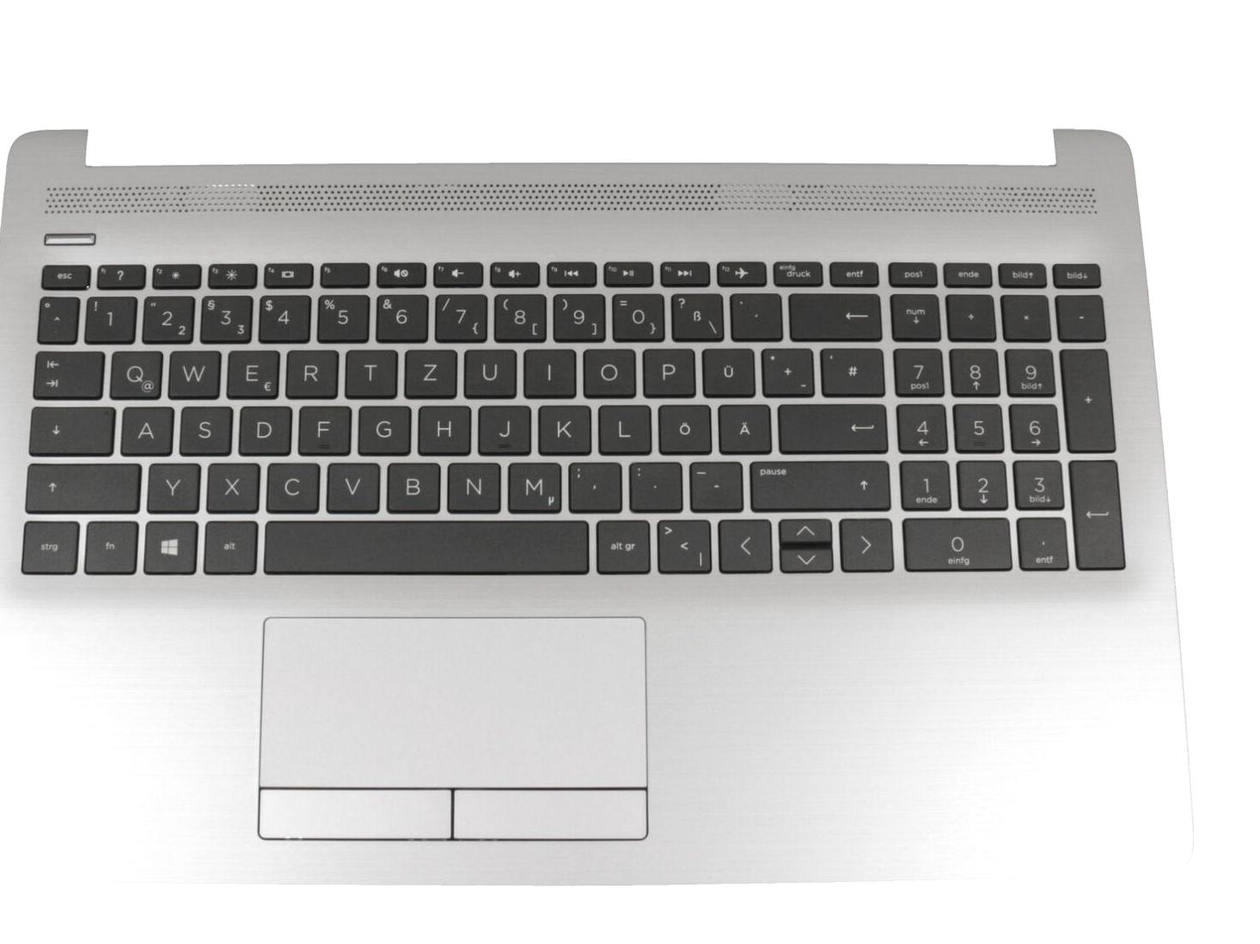0: (611, 292, 666, 341)
1: (83, 292, 135, 341)
2: (139, 291, 193, 340)
3: (198, 291, 251, 340)
4: (259, 294, 311, 344)
5: (315, 293, 370, 343)
6: (376, 293, 430, 344)
7: (432, 290, 486, 340)
8: (490, 290, 544, 340)
9: (549, 290, 604, 340)
a: (118, 402, 172, 454)
accent: (727, 289, 780, 339)
ae: (715, 401, 770, 452)
alt-left: (201, 518, 255, 573)
altgr-right: (593, 517, 649, 573)
b: (383, 458, 440, 511)
c: (263, 458, 318, 512)
caret: (35, 293, 76, 341)
comma: (565, 457, 620, 510)
d: (235, 402, 291, 454)
del: (786, 288, 878, 339)
e: (223, 346, 278, 396)
enter: (775, 399, 885, 451)
f: (296, 402, 349, 452)
g: (354, 402, 409, 454)
h: (415, 401, 470, 453)
hash: (817, 344, 884, 395)
i: (520, 344, 574, 395)
j: (475, 400, 529, 452)
k: (535, 400, 590, 453)
keyboard: (3, 242, 1141, 588)
l: (595, 401, 648, 452)
less: (652, 517, 711, 573)
m: (504, 457, 560, 511)
minus: (685, 458, 742, 509)
n: (443, 458, 500, 512)
o: (579, 344, 634, 395)
oe: (656, 401, 710, 452)
p: (639, 344, 694, 395)
plus: (758, 343, 812, 395)
point: (626, 458, 681, 510)
q: (107, 346, 162, 397)
r: (283, 345, 337, 396)
s: (177, 402, 230, 454)
shift-left: (22, 457, 139, 511)
shift-lock: (26, 402, 112, 453)
shift-right: (746, 456, 887, 508)
space: (260, 516, 587, 573)
ss: (669, 290, 721, 339)
strg-left: (18, 517, 78, 573)
t: (342, 345, 395, 395)
tab: (29, 346, 102, 397)
u: (461, 345, 516, 396)
ue: (699, 344, 753, 395)
v: (323, 458, 379, 511)
w: (165, 346, 219, 396)
x: (204, 458, 259, 511)
y: (144, 458, 199, 512)
z: (401, 345, 456, 395)
